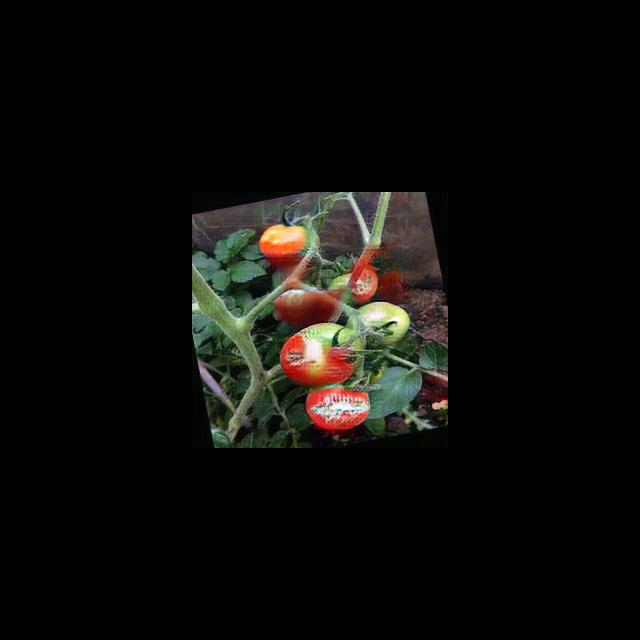tomato: (280, 323, 361, 383), (307, 387, 371, 430)
